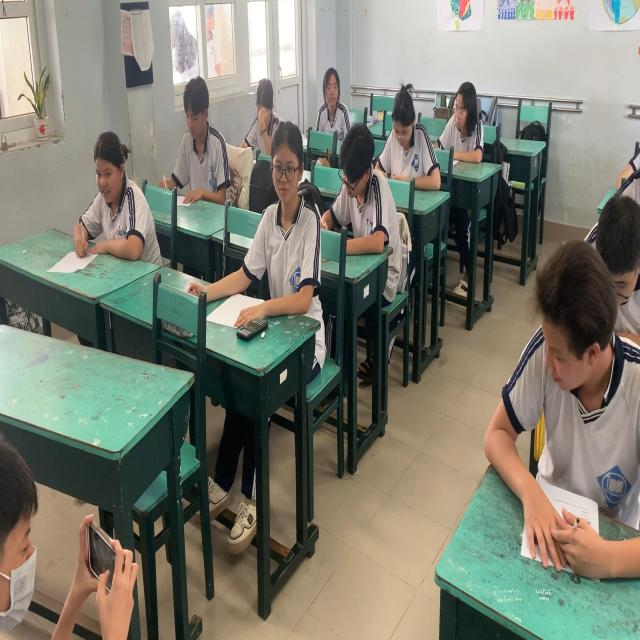cheating: (517, 239, 637, 532), (315, 57, 354, 136)
not_cheating: (261, 113, 321, 332), (76, 122, 150, 284), (338, 132, 404, 292), (162, 67, 228, 220), (585, 167, 640, 298), (430, 60, 491, 178), (381, 86, 438, 201), (247, 63, 281, 158)
